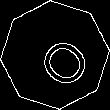O_NW: (21, 22, 89, 88)
